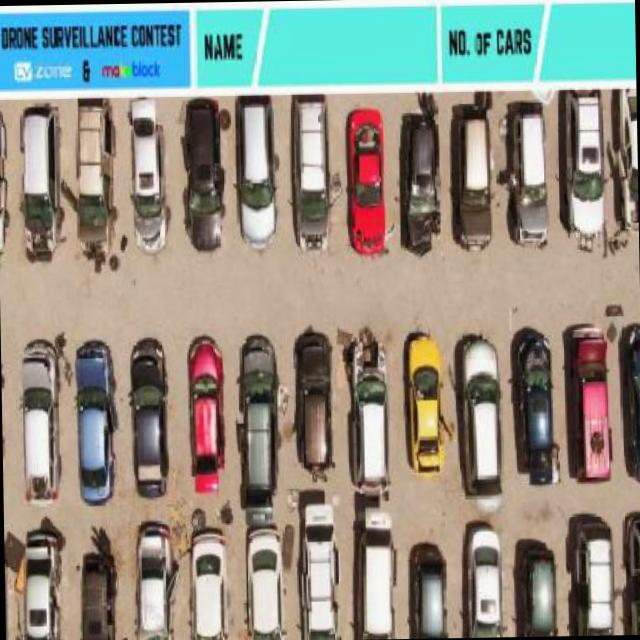car: (456, 336, 506, 510), (69, 339, 118, 508), (14, 336, 61, 508), (564, 324, 614, 484), (238, 334, 282, 513), (340, 106, 390, 258), (290, 324, 340, 476), (512, 328, 560, 485), (346, 332, 392, 493), (180, 95, 227, 252), (126, 336, 171, 498), (14, 101, 59, 258), (126, 96, 170, 256), (508, 99, 554, 248), (400, 105, 444, 259), (288, 91, 330, 252), (237, 95, 280, 250), (561, 86, 605, 236), (70, 98, 111, 258), (185, 335, 229, 484), (351, 496, 396, 640), (454, 101, 496, 252), (300, 490, 342, 640), (403, 332, 446, 478), (568, 510, 612, 635), (243, 518, 288, 640), (16, 519, 61, 640), (185, 522, 231, 640), (131, 517, 175, 640), (463, 518, 505, 638), (517, 537, 561, 636), (406, 538, 448, 638), (74, 547, 117, 640), (613, 86, 639, 234), (618, 317, 640, 477), (621, 508, 640, 633), (0, 106, 10, 258), (3, 532, 12, 640)
